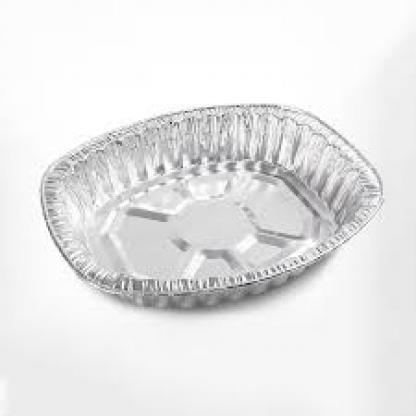METAL: (37, 102, 383, 305)
